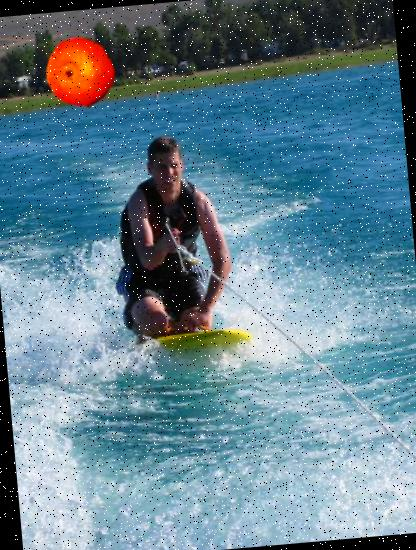Clementine: (42, 34, 121, 114)
